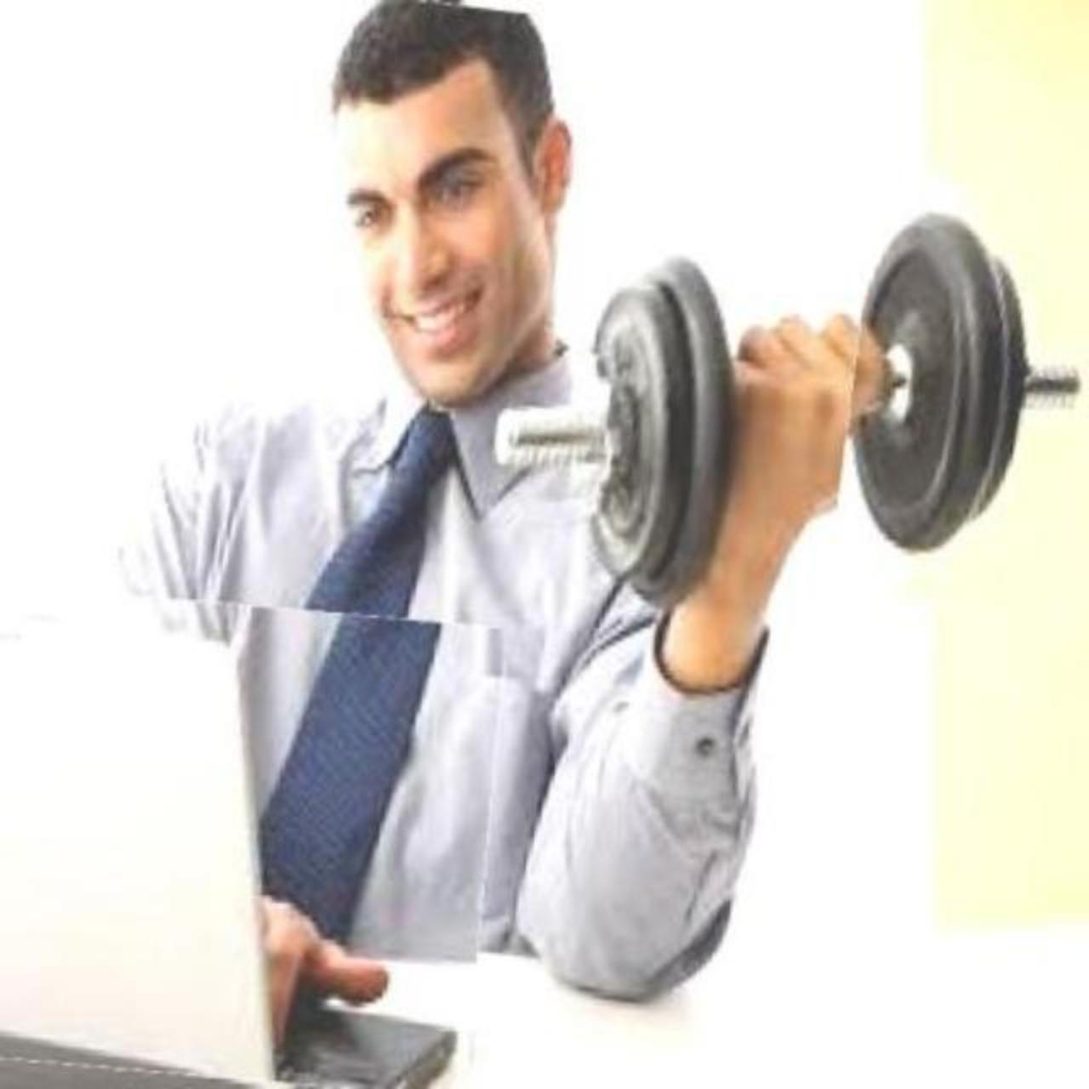laptop: (0, 596, 493, 1088)
